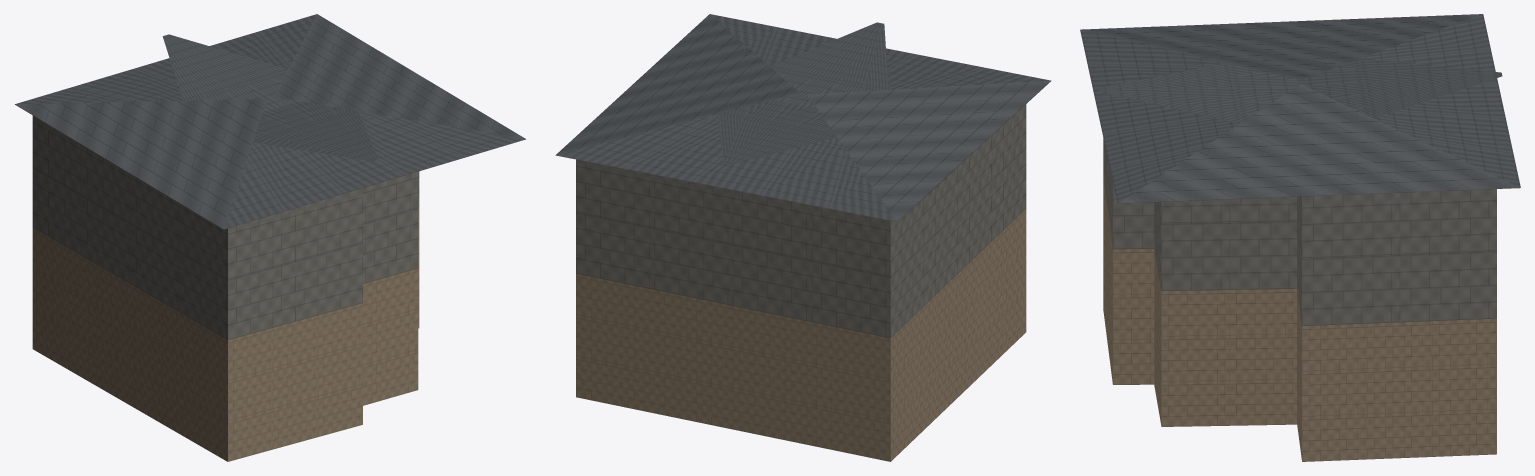
Rendered from bld_c42_34_263.gltf.
3 views of the same model, side by side, from view 1: azimuth 30°, elevation 25°; view 2: azimuth 150°, elevation 25°; view 3: azimuth 270°, elevation 25° (orthographic). The views are drawn at different scales.
Parts seen in each view (by area): view 1: bld_c42_34_263; view 2: bld_c42_34_263; view 3: bld_c42_34_263.
Boxes of the visible parts, x1=… form: bld_c42_34_263: x1=15, y1=14, x2=525, y2=461; bld_c42_34_263: x1=555, y1=14, x2=1051, y2=461; bld_c42_34_263: x1=1080, y1=14, x2=1520, y2=461.
Bounding box in the file's own units: 15.27 × 11.2 × 15.
Materials: 3 (3 with a texture image).
